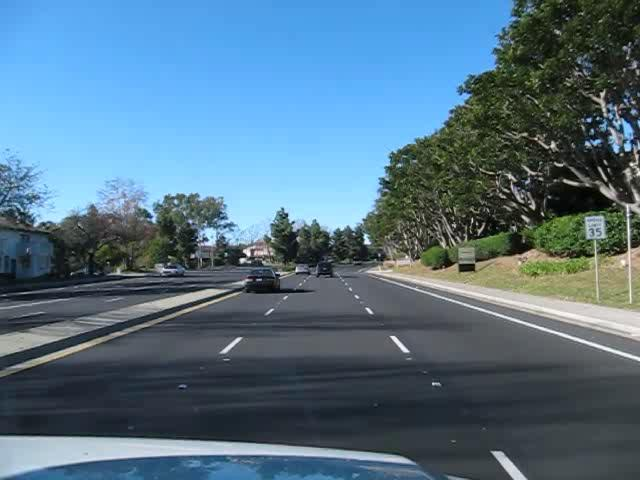speedLimit35: (584, 214, 605, 240)
